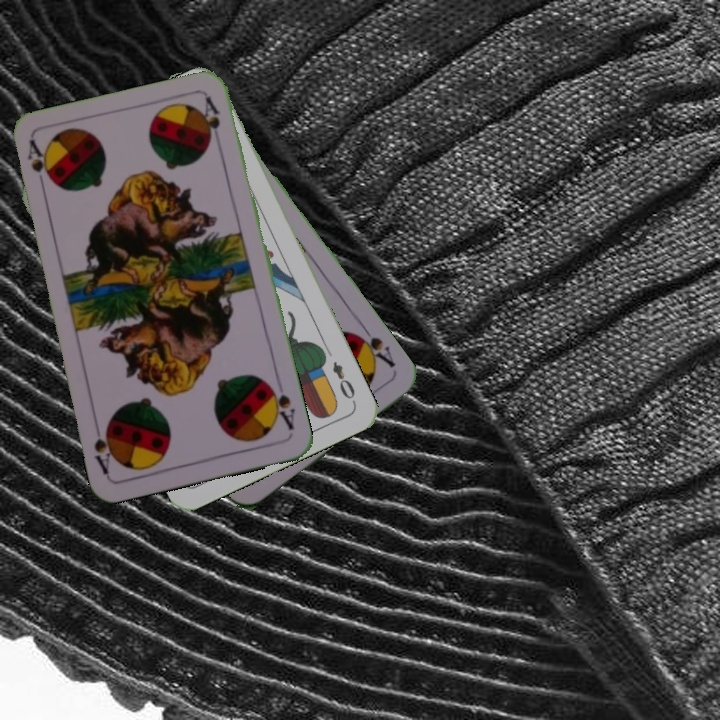EO: (328, 357, 359, 407)
SA: (351, 323, 398, 371), (264, 376, 298, 433), (22, 136, 53, 195)
